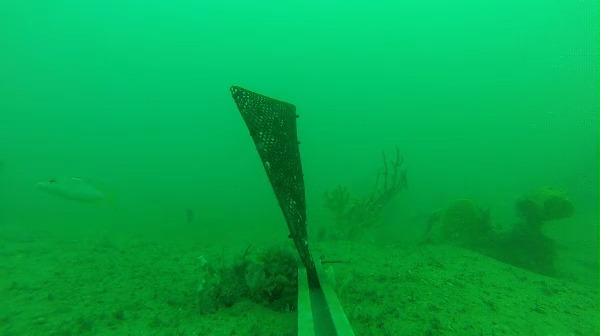fish: (28, 164, 114, 217)
